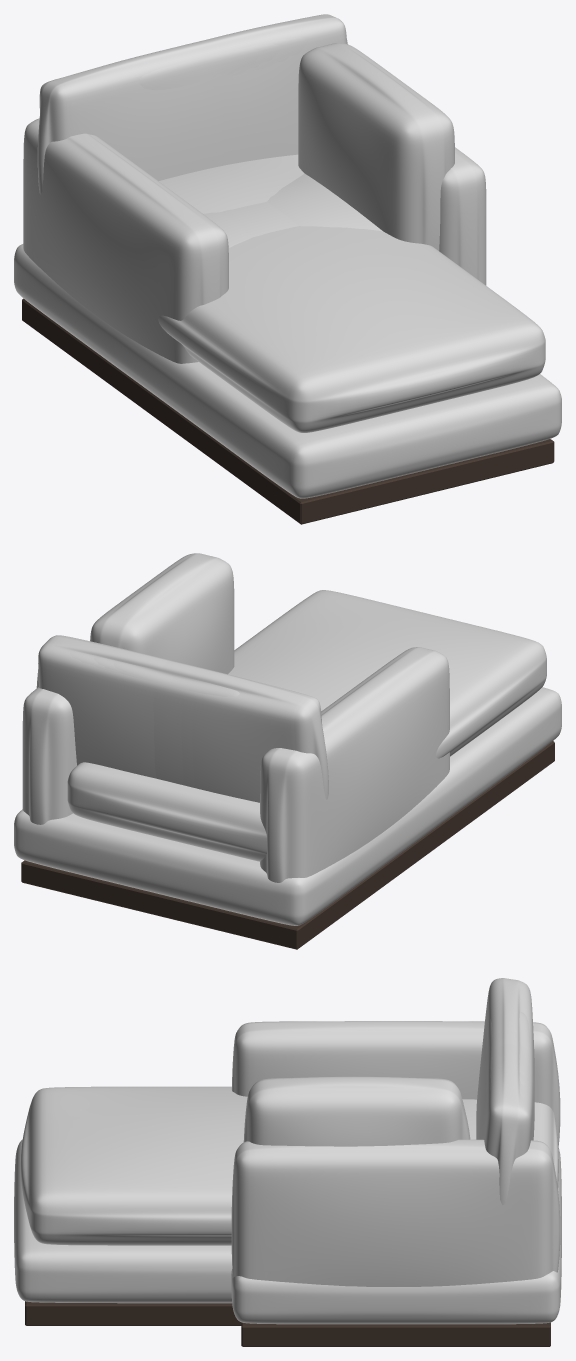
File: modules-high.glb
The picture shows the model from 3 angles, top to bottom: view 1: azimuth 30°, elevation 25°; view 2: azimuth 150°, elevation 25°; view 3: azimuth 270°, elevation 25°; orthographic projection. The views are drawn at different scales.
Visible parts, largest first — view 1: chaise, arm_left, corner, arm_right, ottoman, armless; view 2: arm_left, chaise, ottoman, corner, arm_right, armless; view 3: arm_right, chaise, arm_left, corner, ottoman, armless.
Boxes of the visible parts, <box> form: chaise: <box>16,43,561,524</box>; arm_left: <box>14,14,382,371</box>; corner: <box>14,37,454,368</box>; arm_right: <box>14,48,486,375</box>; ottoman: <box>14,154,304,339</box>; armless: <box>14,45,298,419</box>; arm_left: <box>14,635,449,949</box>; chaise: <box>96,590,561,948</box>; ottoman: <box>64,762,378,949</box>; corner: <box>36,553,407,949</box>; arm_right: <box>14,662,411,924</box>; armless: <box>94,657,448,930</box>; arm_right: <box>231,979,561,1346</box>; chaise: <box>14,987,561,1325</box>; arm_left: <box>231,1012,561,1346</box>; corner: <box>243,978,561,1227</box>; ottoman: <box>462,1099,561,1216</box>; armless: <box>476,987,561,1211</box>.
Bounding box in the file's own units: 1.05 × 0.8131 × 1.65.
